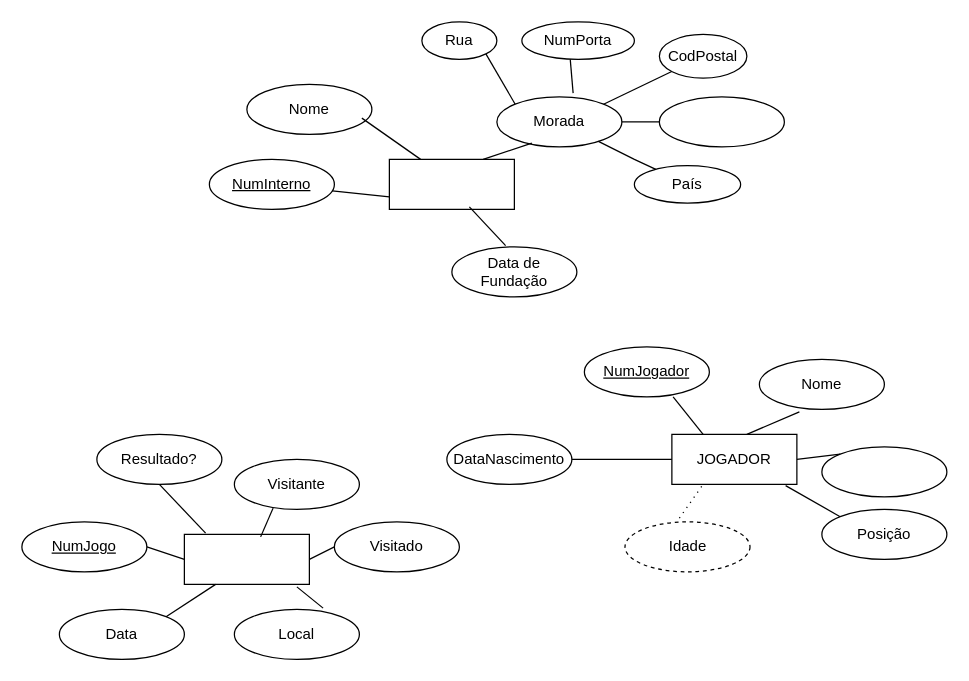
Some shapes in this 969 by 681 pixel diagram are drawn without their labels. Each missing label, with the centre of its shape:
EQUIPA: (x=451, y=183)
Genero: (x=884, y=471)
JOGO: (x=246, y=558)
Localidade: (x=721, y=121)
